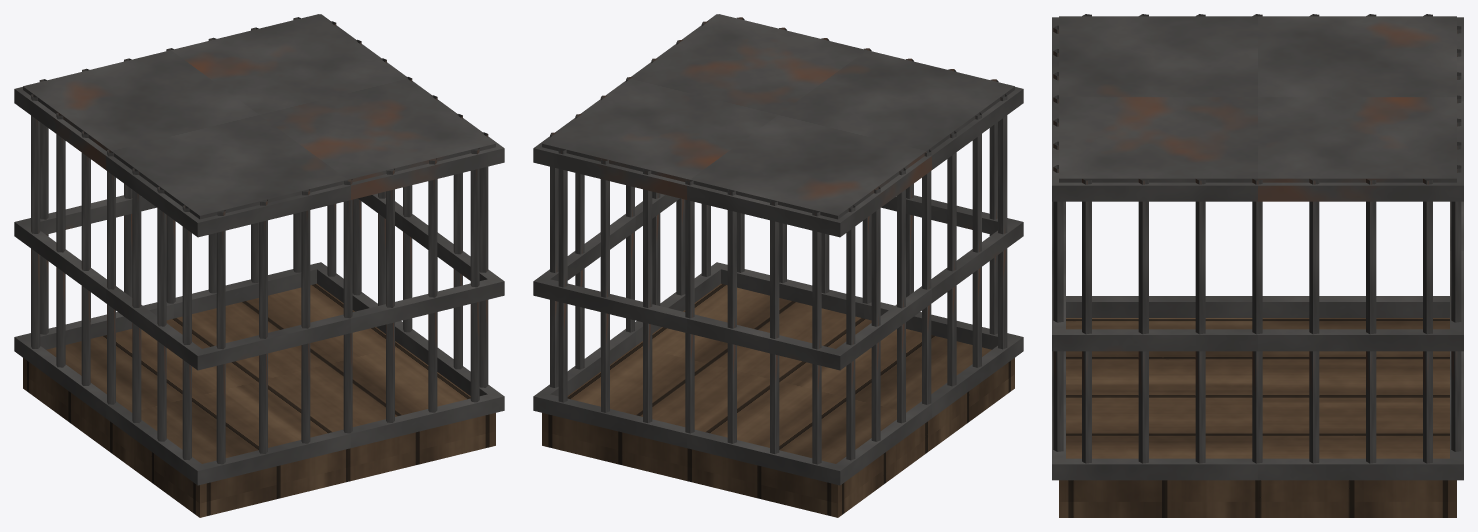
File: Cage_Small.gltf
3 renders of one model, left to right at view 1: azimuth 30°, elevation 25°; view 2: azimuth 150°, elevation 25°; view 3: azimuth 270°, elevation 25°, orthographic. The views are drawn at different scales.
Parts seen in each view (by area): view 1: Cage_Small; view 2: Cage_Small; view 3: Cage_Small.
Part boxes in pixels (left/top/right/bottom): Cage_Small: left=14, top=14, right=504, bottom=517; Cage_Small: left=533, top=14, right=1023, bottom=517; Cage_Small: left=1052, top=14, right=1463, bottom=517.
Bounding box in the file's own units: 0.85 × 0.8 × 0.88.
2 materials, 2 textured.
